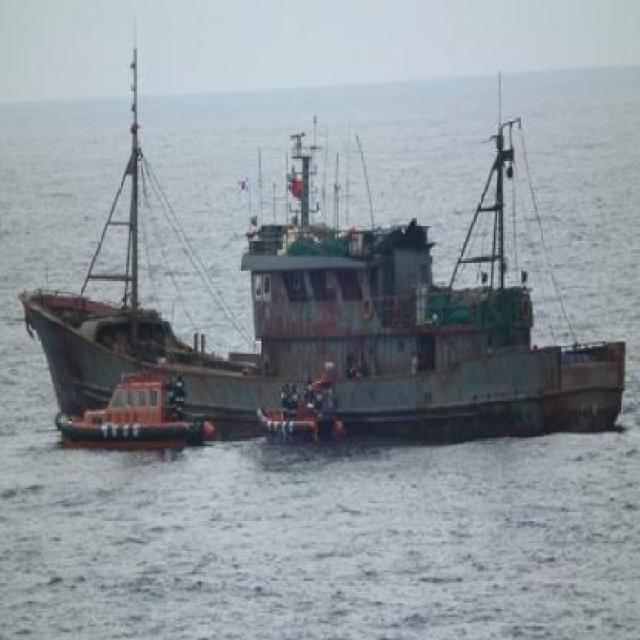fish-b: (13, 97, 634, 454)
